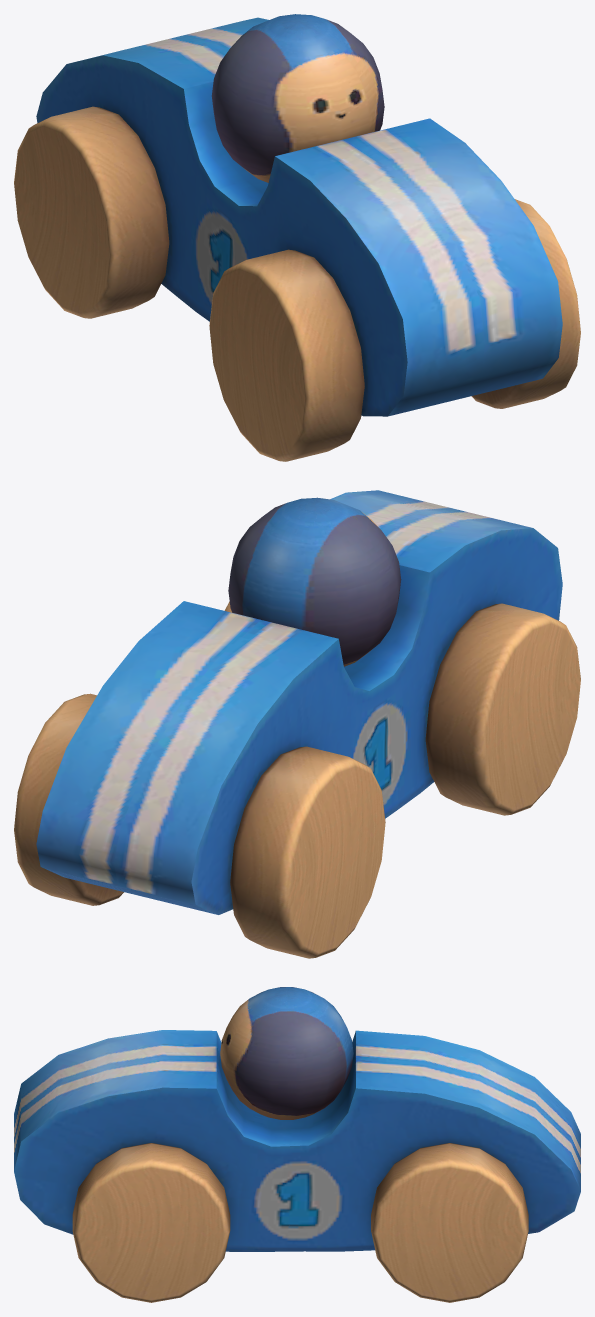
File: 0-car_blue.fbx
3 views of the same model, one above another, from view 1: azimuth 30°, elevation 25°; view 2: azimuth 150°, elevation 25°; view 3: azimuth 270°, elevation 25° (orthographic). The views are drawn at different scales.
Visible parts, largest first — view 1: 0-car_blue; view 2: 0-car_blue; view 3: 0-car_blue.
Part boxes in pixels (<box>): 0-car_blue: <box>14,14,580,461</box>; 0-car_blue: <box>14,490,580,958</box>; 0-car_blue: <box>14,987,580,1302</box>.
Size of the model in its own units: 40.63 by 47.55 by 94.71.
